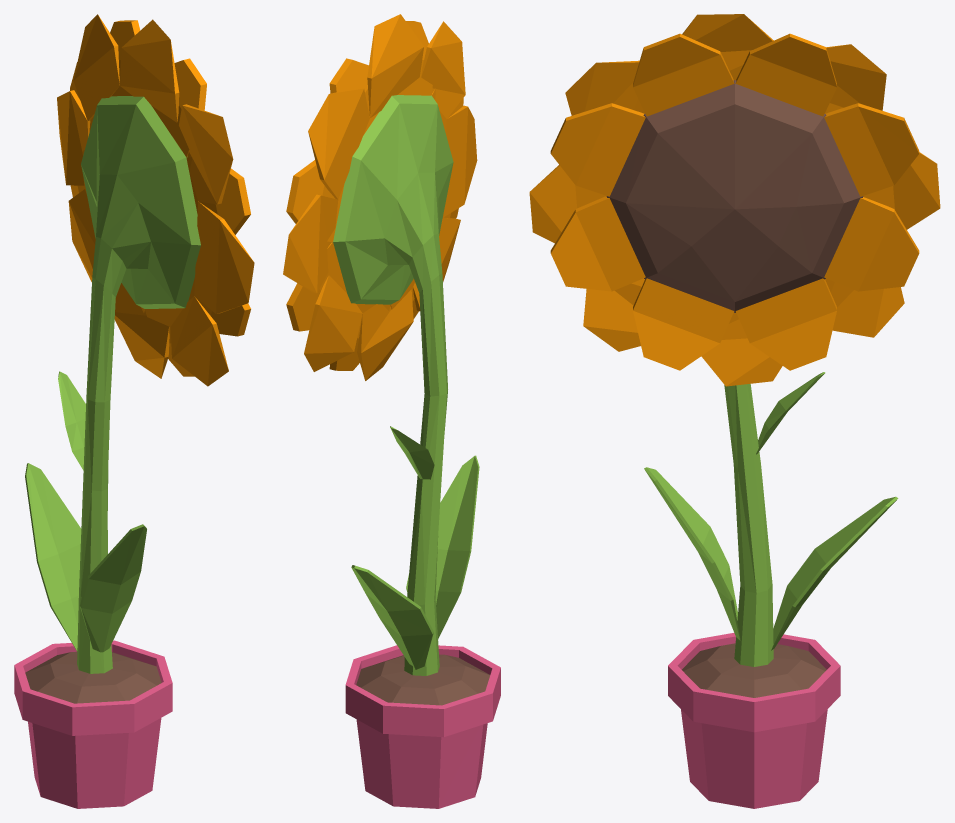
Rendered from sunflowerJ.glb.
3 views of the same model, side by side, from view 1: azimuth 30°, elevation 25°; view 2: azimuth 150°, elevation 25°; view 3: azimuth 270°, elevation 25° (orthographic). The views are drawn at different scales.
Visible parts, largest first — view 1: sunflower_Circle.001; view 2: sunflower_Circle.001; view 3: sunflower_Circle.001.
Part boxes in pixels (left/top/right/bottom): sunflower_Circle.001: left=14, top=14, right=254, bottom=808; sunflower_Circle.001: left=283, top=14, right=500, bottom=808; sunflower_Circle.001: left=529, top=14, right=940, bottom=808.
Size of the model in its own units: 1.98 by 9.97 by 4.67.
